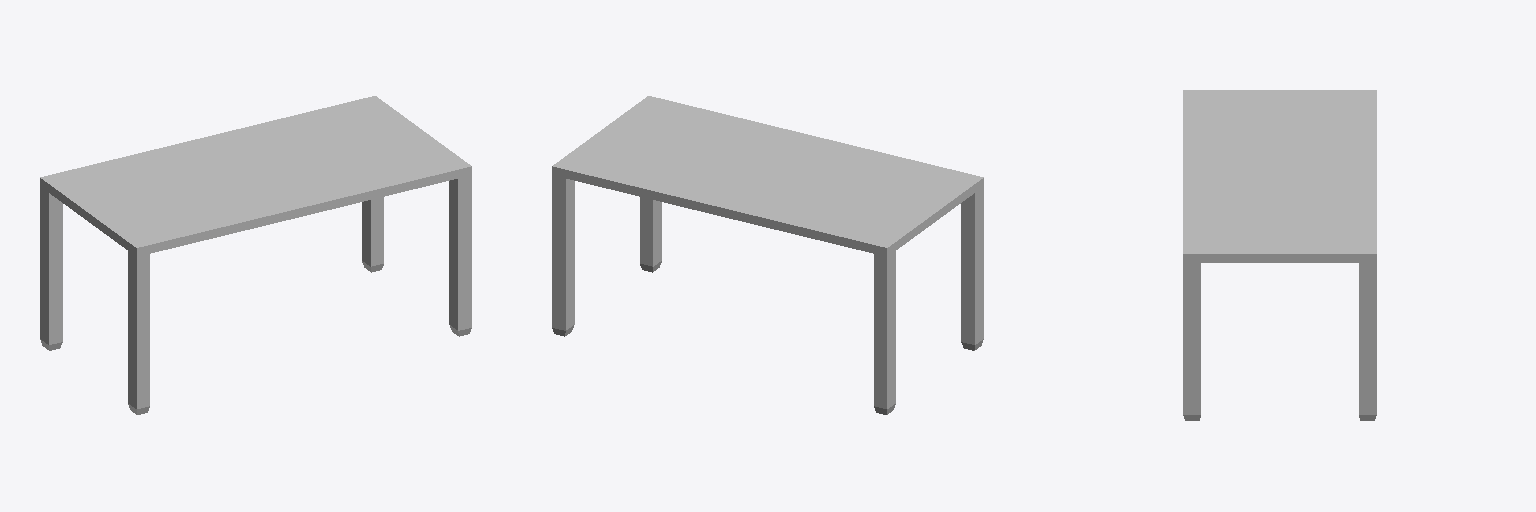
The model's file is Table.obj.
3 renders of one model, left to right at view 1: azimuth 30°, elevation 25°; view 2: azimuth 150°, elevation 25°; view 3: azimuth 270°, elevation 25°, orthographic.
Size of the model in its own units: 100 by 48.05 by 50.05.